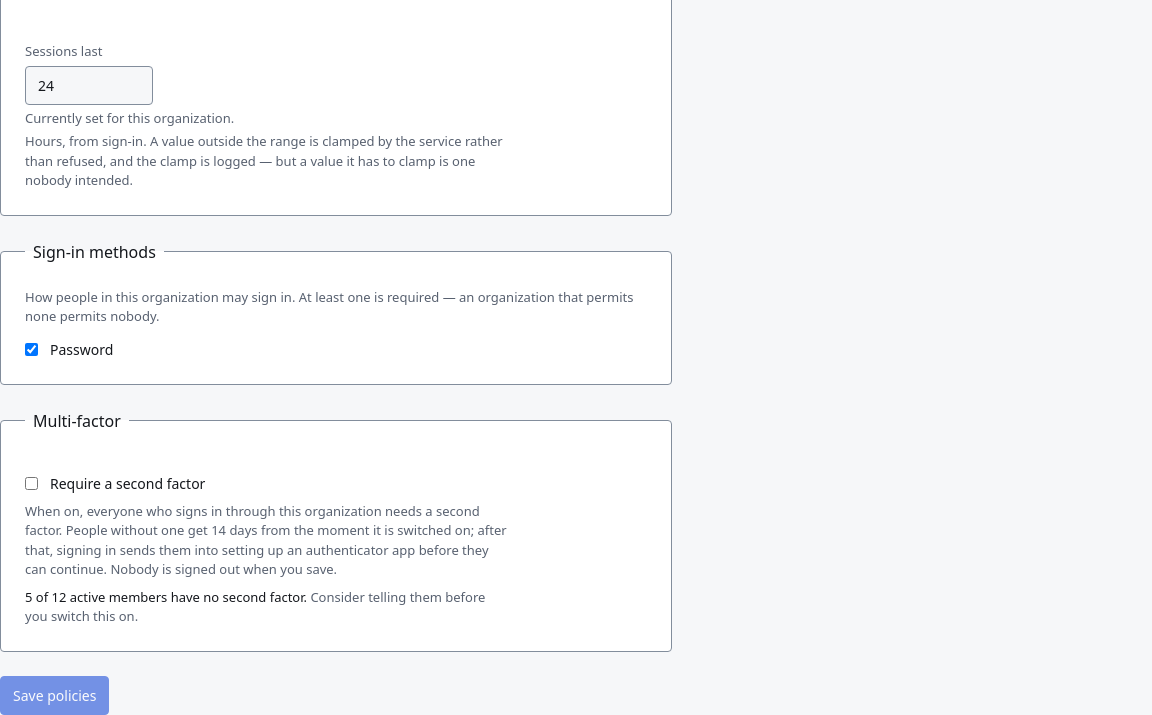
Test: multi-factor › confirms switching it on, naming how many people it reaches
(page scrolled)
Expected: the text "5 of 12 active members have no second factor." is shown, [25,588,307,606]
Step 1. Click the checkbox labelled "Require a second factor" → (32, 483), box [25,476,38,490]
(page scrolled)
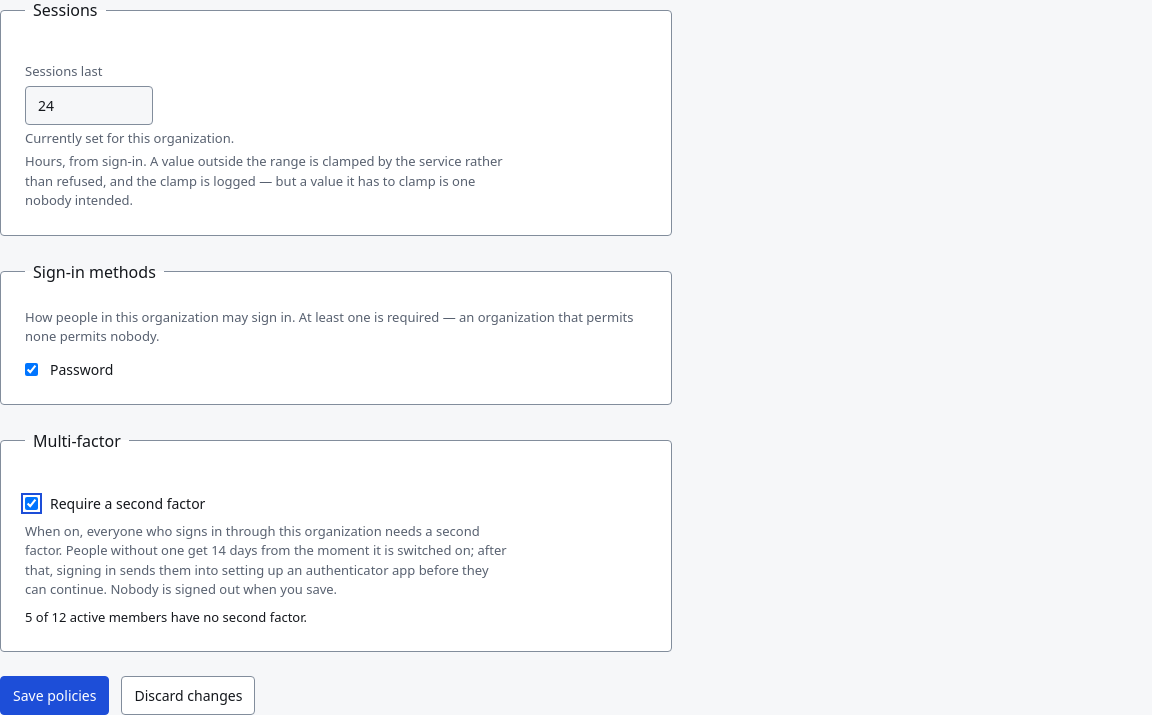
Step 2. Click the button "Save policies" → (55, 696), box [0,676,109,714]
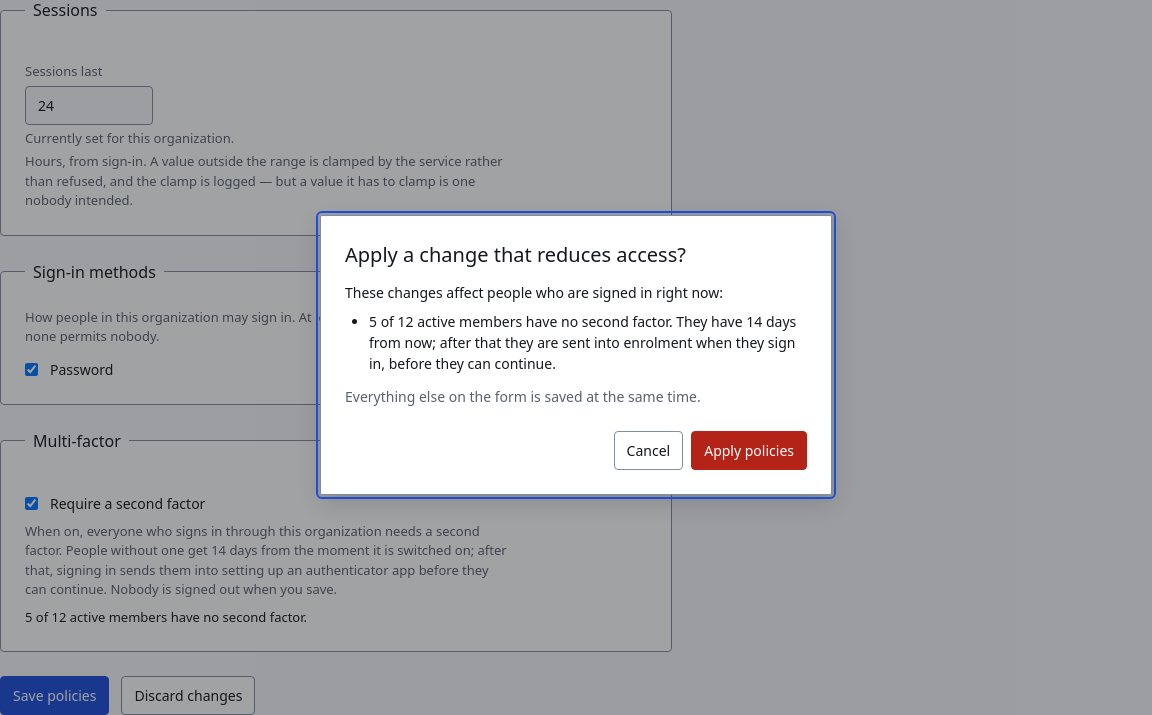
Now the dialog shows "5 of 12 active members have no second factor", box [369,312,796,373]
Now the dialog shows "14 days from now", box [369,312,796,373]
